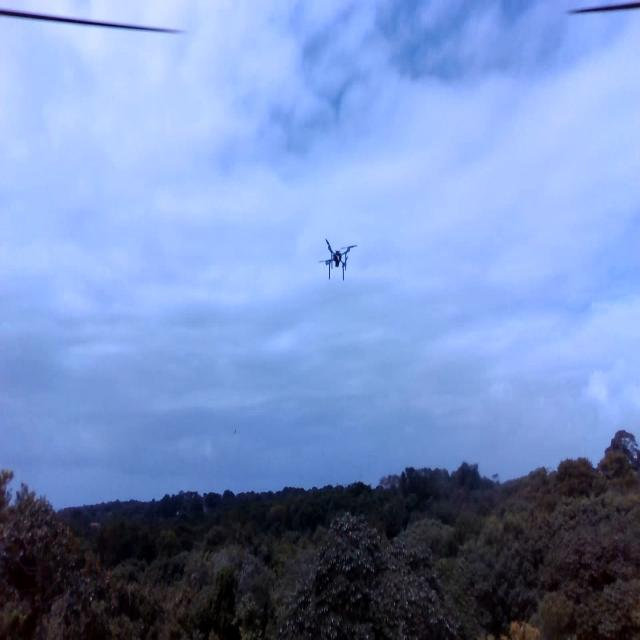-uav-: (316, 230, 358, 282)
